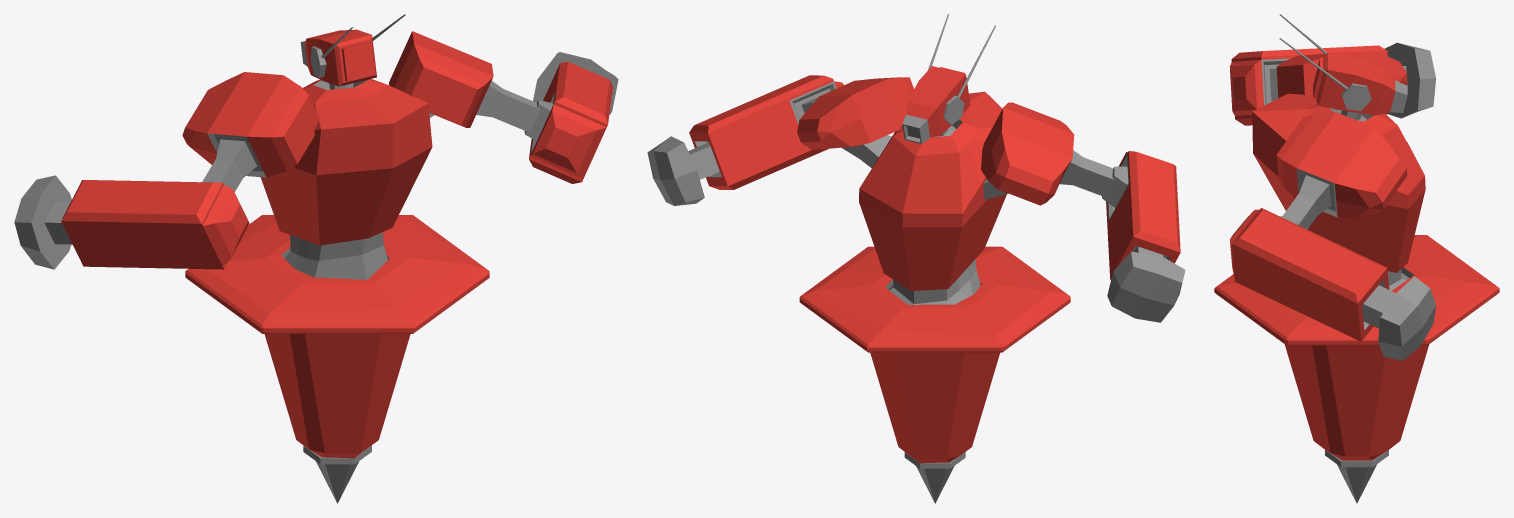
File: Mecha.fbx
3 views of the same model, side by side, from view 1: azimuth 30°, elevation 25°; view 2: azimuth 150°, elevation 25°; view 3: azimuth 270°, elevation 25° (orthographic). The views are drawn at different scales.
Parts seen in each view (by area): view 1: Body, Arms, Head; view 2: Body, Arms, Head; view 3: Arms, Body, Head.
Part boxes in pixels (x1=…): Body: x1=185, y1=79, x2=489, y2=503; Arms: x1=14, y1=31, x2=618, y2=269; Head: x1=300, y1=14, x2=405, y2=86; Body: x1=799, y1=91, x2=1070, y2=503; Arms: x1=647, y1=75, x2=1185, y2=322; Head: x1=902, y1=14, x2=995, y2=143; Arms: x1=1229, y1=42, x2=1436, y2=360; Body: x1=1214, y1=93, x2=1499, y2=503; Head: x1=1279, y1=14, x2=1407, y2=115.
Bounding box in the file's own units: 2388 × 1952 × 1056.
